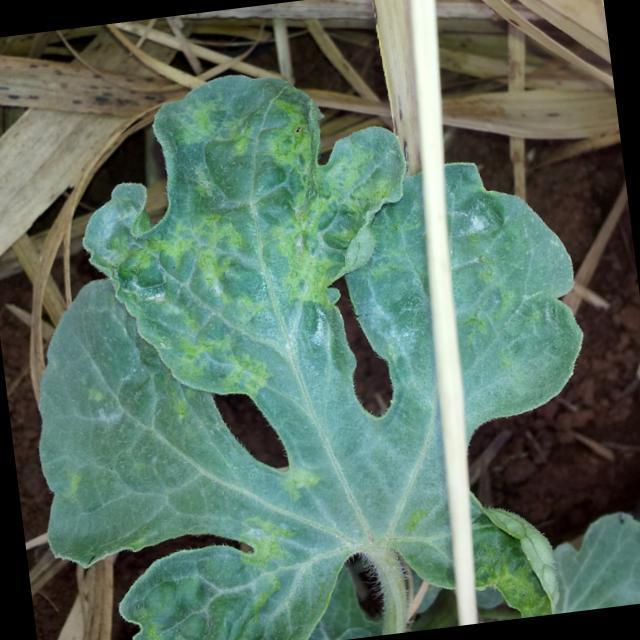Mosaic Virus: (40, 72, 425, 376), (98, 461, 366, 640)
